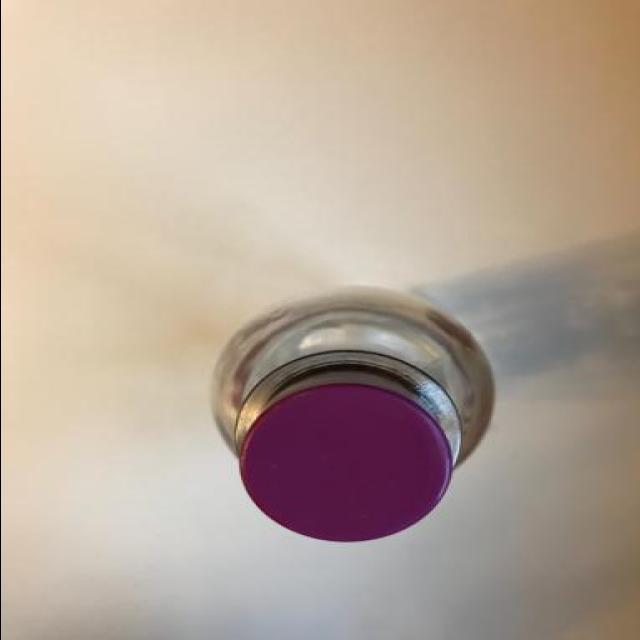Glass Bottle: (207, 288, 500, 540)
